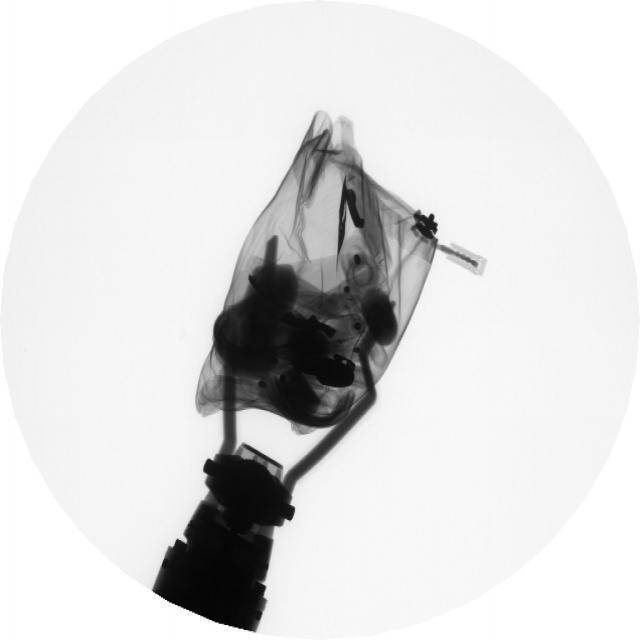BLADE: (333, 185, 349, 243)
